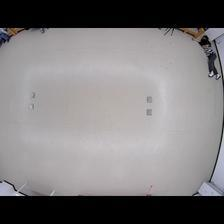fall: (198, 34, 222, 78)
